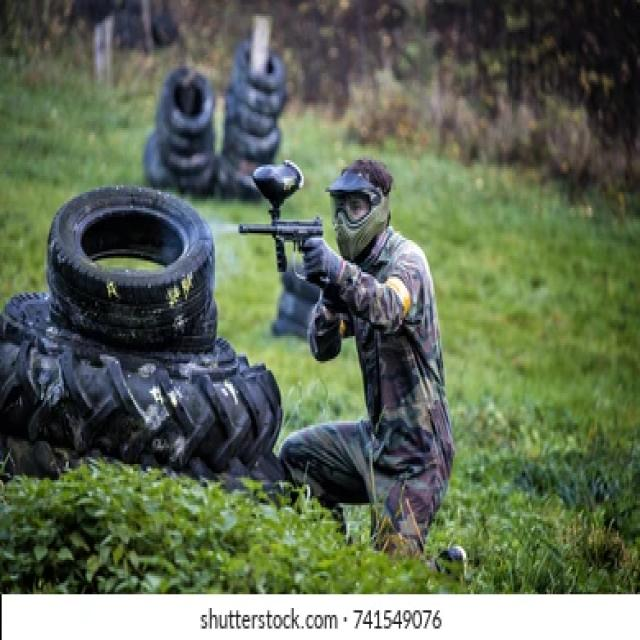soldier: (245, 155, 470, 581)
